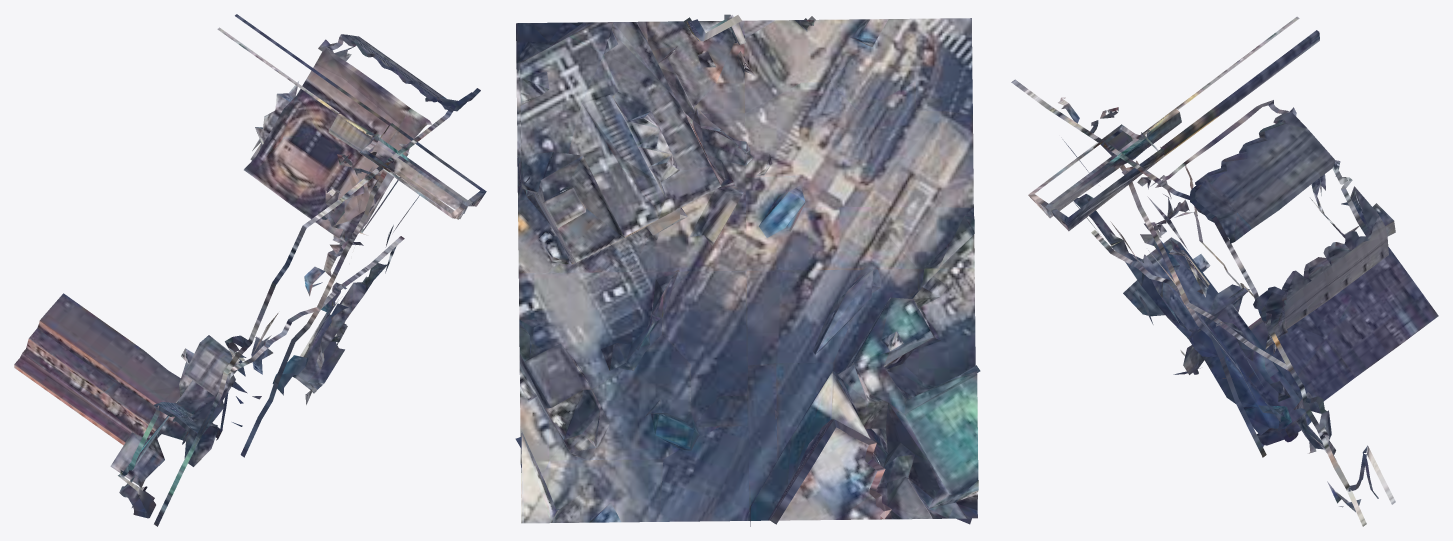
3 renders of one model, left to right at view 1: azimuth 30°, elevation 25°; view 2: azimuth 150°, elevation 25°; view 3: azimuth 270°, elevation 25°, orthographic. The views are drawn at different scales.
Bounding box in the file's own units: 83.77 × 87.96 × 77.35.
1 material, 1 textured.
